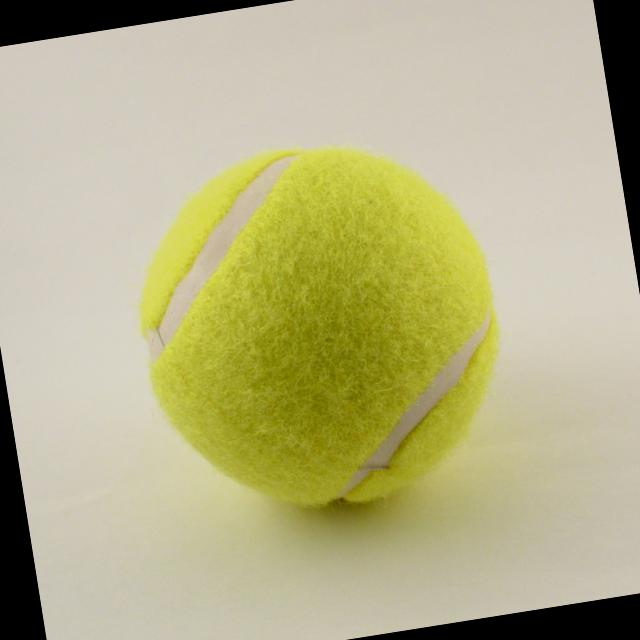Tennis Ball: (116, 119, 525, 542)
